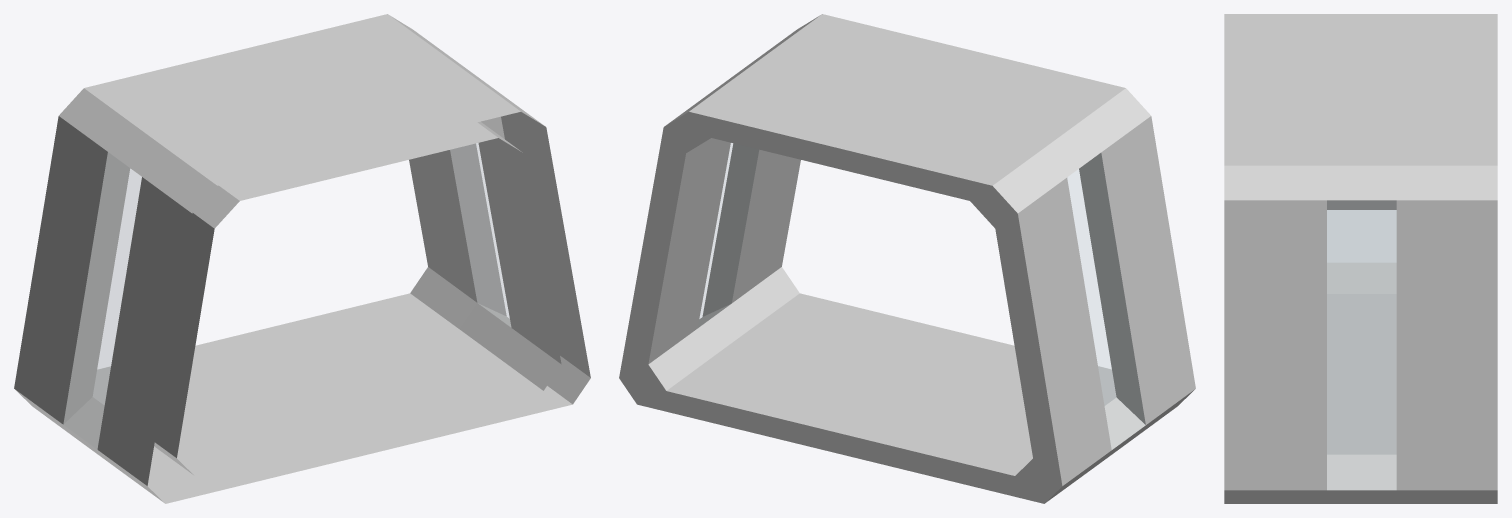
File: Mod_Lab.fbx
3 renders of one model, left to right at view 1: azimuth 30°, elevation 25°; view 2: azimuth 150°, elevation 25°; view 3: azimuth 270°, elevation 25°, orthographic. The views are drawn at different scales.
Parts seen in each view (by area): view 1: Mod_Lab, Lab_Glass; view 2: Mod_Lab, Lab_Glass; view 3: Mod_Lab, Lab_Glass.
Boxes of the visible parts, x1=… form: Mod_Lab: x1=14, y1=14, x2=590, y2=503; Lab_Glass: x1=93, y1=143, x2=508, y2=404; Mod_Lab: x1=619, y1=14, x2=1195, y2=503; Lab_Glass: x1=700, y1=143, x2=1115, y2=404; Mod_Lab: x1=1224, y1=14, x2=1497, y2=503; Lab_Glass: x1=1327, y1=210, x2=1396, y2=454.
Size of the model in its own units: 767 by 505 by 400.
